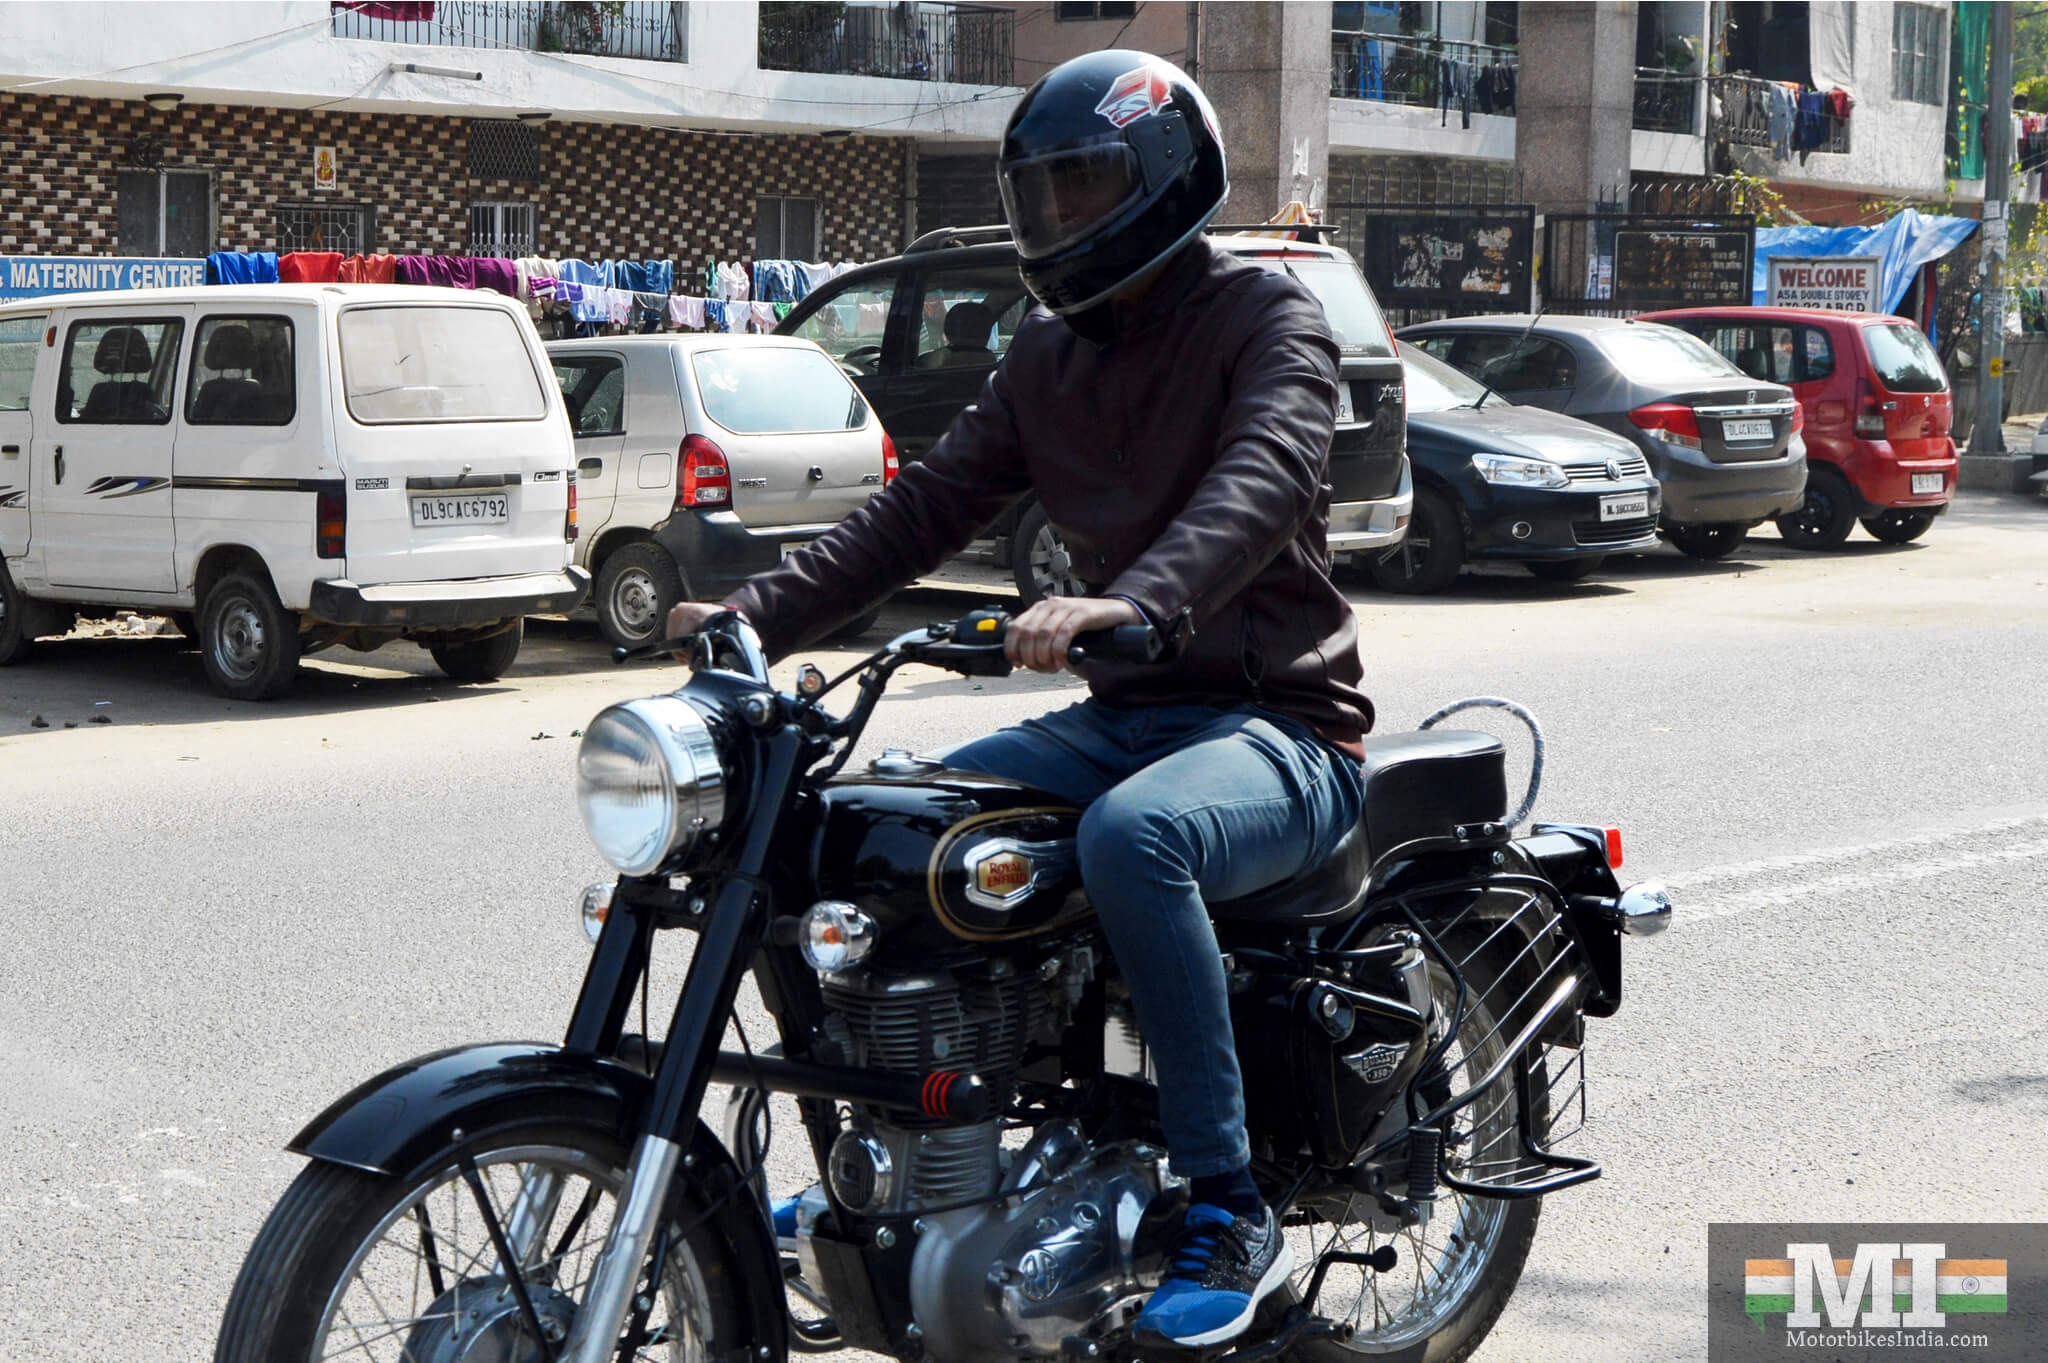helmet: (1000, 59, 1228, 304)
